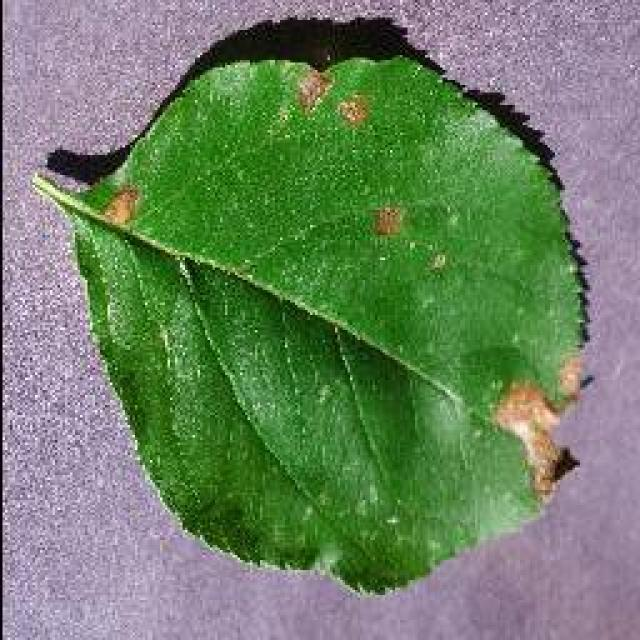black_rot: (471, 361, 599, 522), (294, 66, 377, 128), (95, 179, 150, 239), (362, 199, 411, 247)
